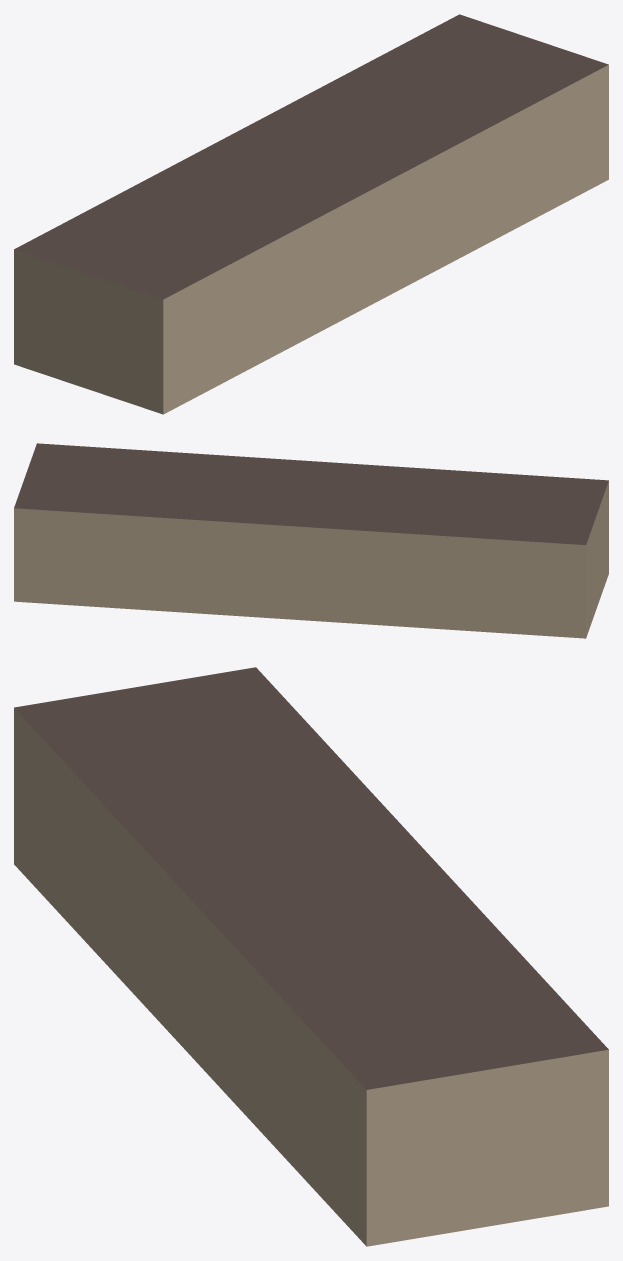
The picture shows the model from 3 angles, top to bottom: view 1: azimuth 30°, elevation 25°; view 2: azimuth 150°, elevation 25°; view 3: azimuth 270°, elevation 25°; orthographic projection. The views are drawn at different scales.
Visible parts, largest first — view 1: HP-w1200772466; view 2: HP-w1200772466; view 3: HP-w1200772466.
Boxes of the visible parts, x1,y1,x2,y2 form: HP-w1200772466: (14, 14, 608, 414); HP-w1200772466: (14, 443, 608, 638); HP-w1200772466: (14, 667, 608, 1246).
Size of the model in its own units: 52.04 by 9 by 30.96.
